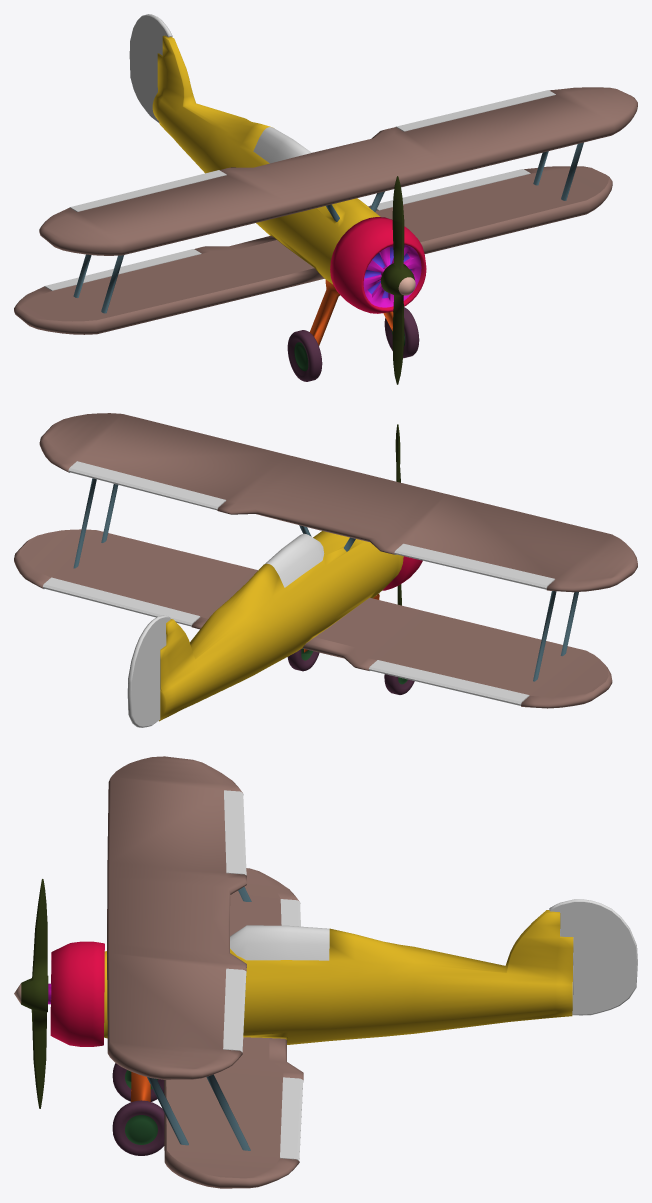
The model's file is Airplane.fbx.
The picture shows the model from 3 angles, top to bottom: view 1: azimuth 30°, elevation 25°; view 2: azimuth 150°, elevation 25°; view 3: azimuth 270°, elevation 25°; orthographic projection. The views are drawn at different scales.
Parts seen in each view (by area): view 1: Airplane, Propeller, BackWing, Window, UpperLeft, UpperRight, LowerRight, LowerLeft; view 2: Airplane, BackWing, UpperRight, LowerRight, UpperLeft, LowerLeft, Window; view 3: Airplane, BackWing, Window, Propeller, UpperRight, UpperLeft, LowerLeft.
Boxes of the visible parts, x1,y1,x2,y2 form: Airplane: (14, 35, 637, 381); Propeller: (381, 176, 415, 384); BackWing: (129, 14, 172, 122); Window: (253, 127, 311, 163); UpperLeft: (396, 90, 555, 131); UpperRight: (69, 170, 226, 211); LowerRight: (44, 249, 201, 290); LowerLeft: (370, 169, 530, 210); Airplane: (14, 413, 637, 721); BackWing: (127, 615, 170, 727); UpperRight: (394, 543, 554, 589); LowerRight: (369, 660, 529, 705); UpperLeft: (68, 461, 225, 510); LowerLeft: (42, 577, 200, 626); Window: (264, 533, 324, 587); Airplane: (48, 756, 573, 1188); BackWing: (549, 899, 637, 1015); Window: (230, 925, 329, 960); Propeller: (14, 879, 48, 1108); UpperRight: (224, 790, 246, 875); UpperLeft: (223, 968, 246, 1052); LowerLeft: (280, 1077, 303, 1160).
Size of the model in its own units: 817 by 300 by 680.
